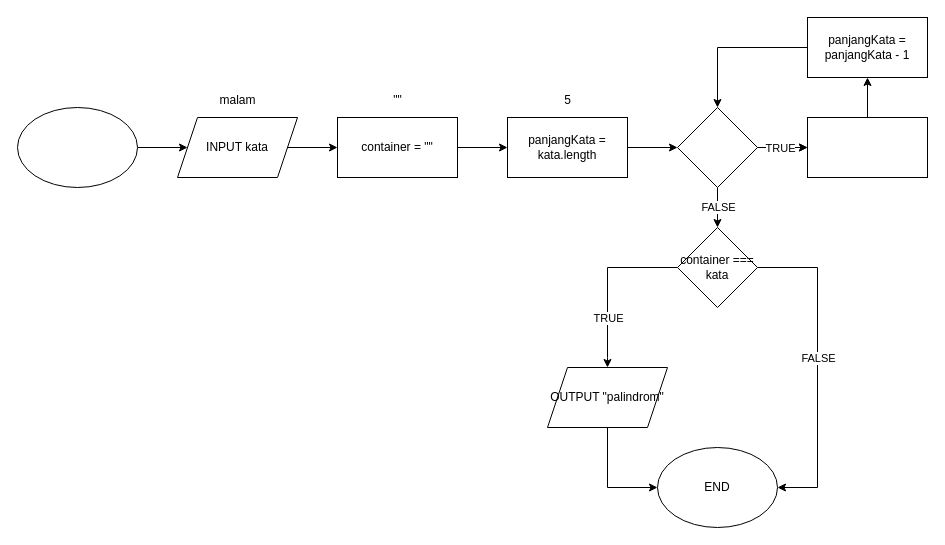
Some shapes in this 945 by 545 pixel diagram are drawn without their labels. Each missing label, with the centre of its shape:
"container = kata[panjangKata - 1]" belongs at pixel 867 147.
"panjangKata >0" belongs at pixel 717 147.
"START" belongs at pixel 77 147.
